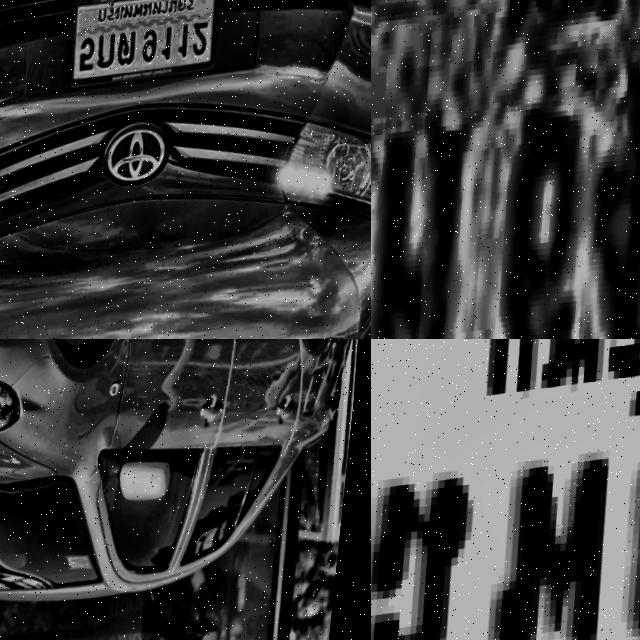license-plate: (371, 0, 640, 339), (371, 339, 640, 640), (63, 0, 229, 99)
